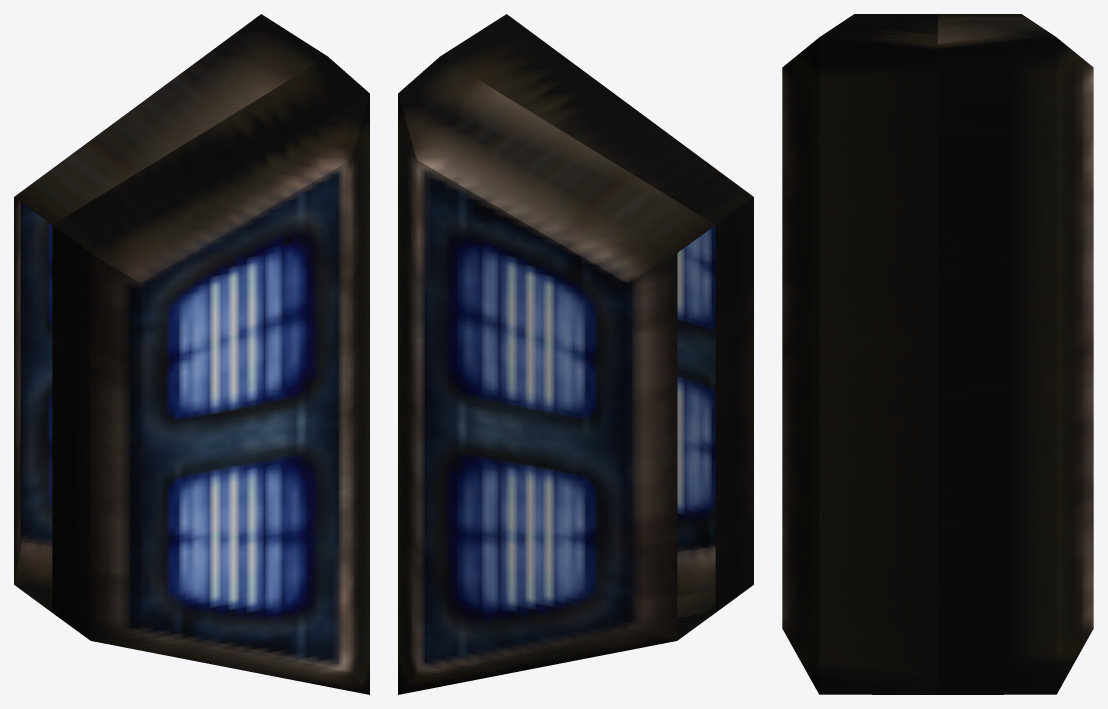
File: datan_common_380cbd2e.obj
3 renders of one model, left to right at view 1: azimuth 30°, elevation 25°; view 2: azimuth 150°, elevation 25°; view 3: azimuth 270°, elevation 25°, orthographic. The views are drawn at different scales.
Visible parts, largest first — view 1: datan_common_380cbd2e; view 2: datan_common_380cbd2e; view 3: datan_common_380cbd2e.
Boxes of the visible parts, bbox=[...] form: datan_common_380cbd2e: bbox=[14, 14, 369, 694]; datan_common_380cbd2e: bbox=[398, 14, 753, 694]; datan_common_380cbd2e: bbox=[782, 14, 1093, 694].
Bounding box in the file's own units: 4.21 × 8.78 × 3.77.
1 material, 1 textured.
